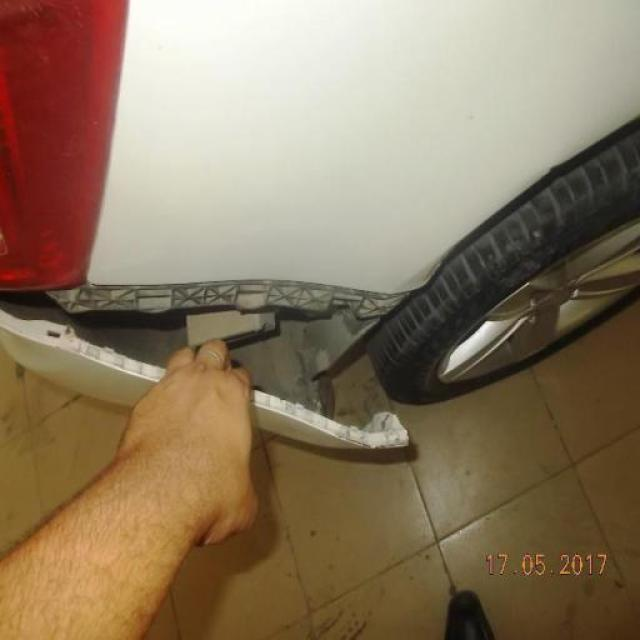tear: (2, 283, 422, 447)
